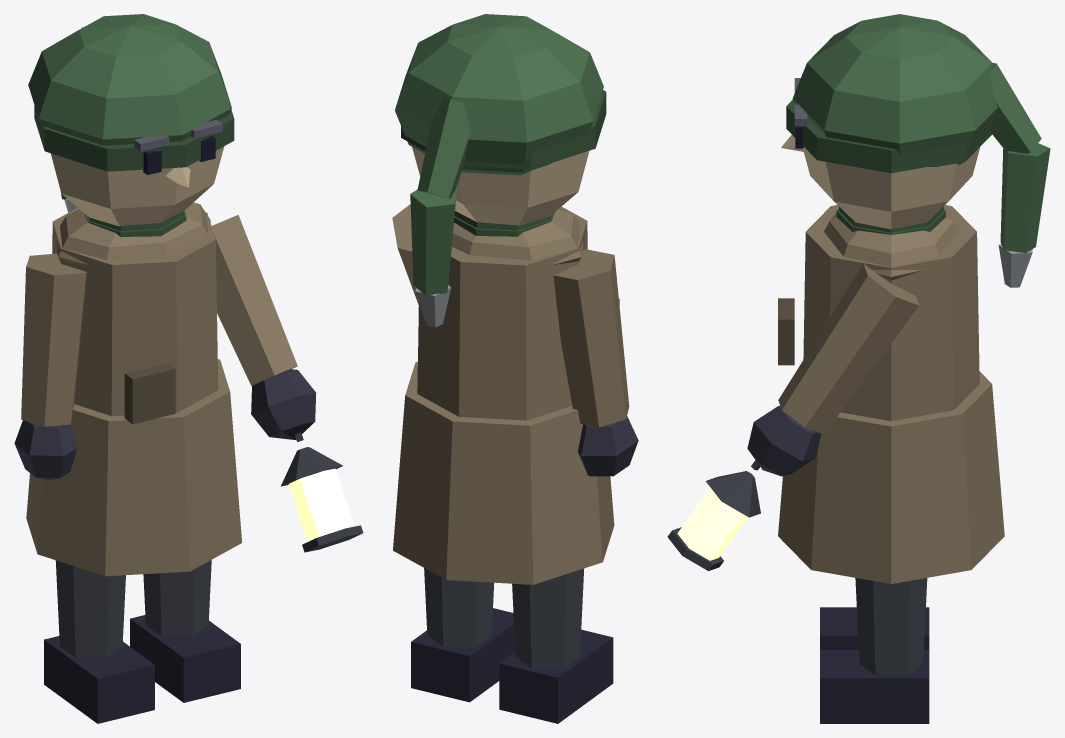
File: tolly_lantern.glb
3 renders of one model, left to right at view 1: azimuth 30°, elevation 25°; view 2: azimuth 150°, elevation 25°; view 3: azimuth 270°, elevation 25°, orthographic. The views are drawn at different scales.
Visible parts, largest first — view 1: Torso, Head, ArmL, LegR, ArmR, LegL; view 2: Torso, Head, ArmR, LegR, LegL, ArmL; view 3: Torso, Head, ArmL, LegL, LegR.
Boxes of the visible parts, box(x1,y1,x2,y2) form: Torso: box(26, 202, 241, 576); Head: box(28, 14, 234, 226); ArmL: box(211, 215, 363, 552); LegR: box(44, 560, 154, 723); ArmR: box(14, 253, 86, 480); LegL: box(130, 560, 240, 702); Torso: box(393, 206, 619, 584); Head: box(395, 14, 606, 327); ArmR: box(553, 249, 638, 476); LegR: box(499, 568, 613, 723); LegL: box(411, 568, 515, 702); ArmL: box(392, 204, 418, 305); Torso: box(778, 205, 1004, 583); Head: box(781, 14, 1050, 287); ArmL: box(667, 264, 918, 570); LegL: box(820, 578, 929, 723); LegR: box(820, 607, 929, 649).
Size of the model in its own units: 0.6823 by 1.74 by 0.9122.
